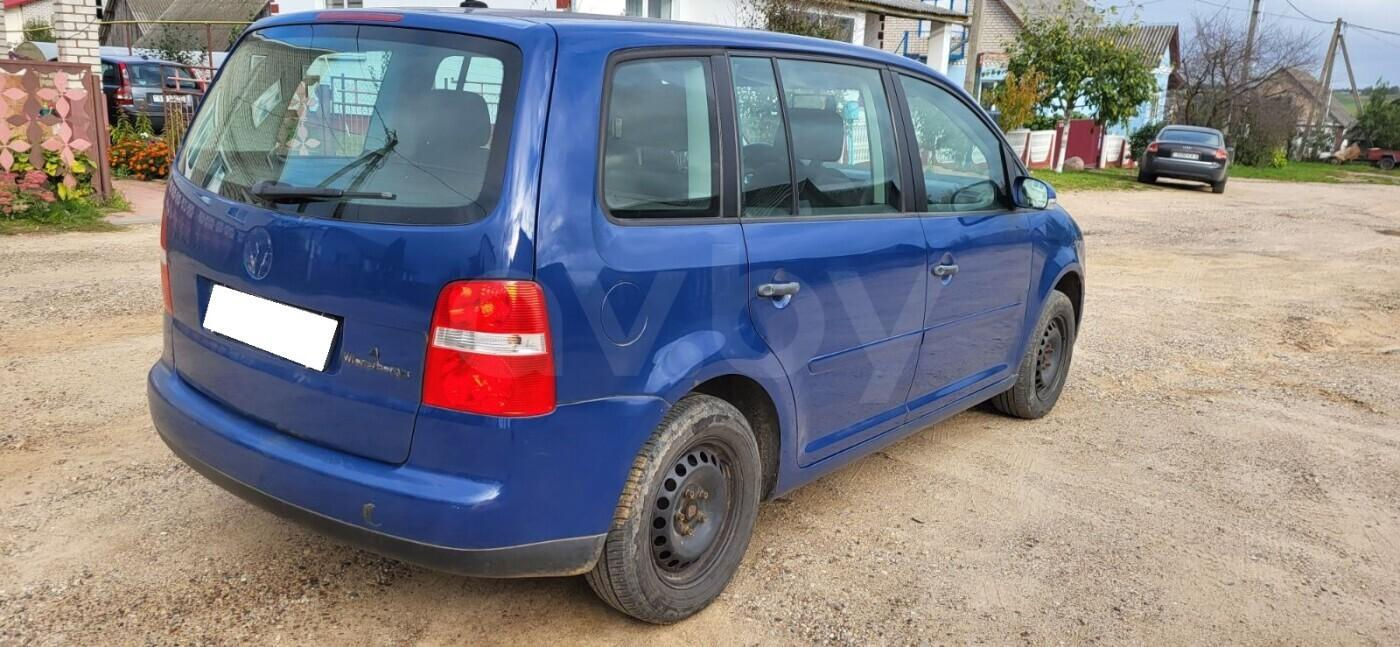Touran_2003-2006: (147, 5, 1086, 627)
